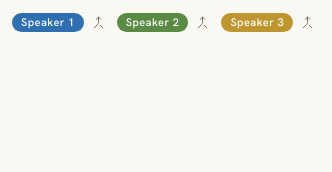
Test case: SpeakerLabels merge flow › lists only the OTHER labels as merge targets
Click the button named "merge speaker 1 into another": (98,22) [88,12,109,33]
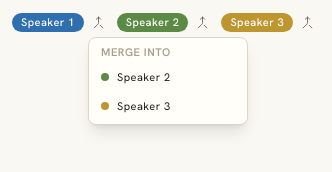
Result: the number of menu items is 2 at [101,70,170,84]; [101,99,170,113]
Result: the menu shows "Speaker 2" at [117,70,170,84]
Result: the menu shows "Speaker 3" at [117,99,170,113]
